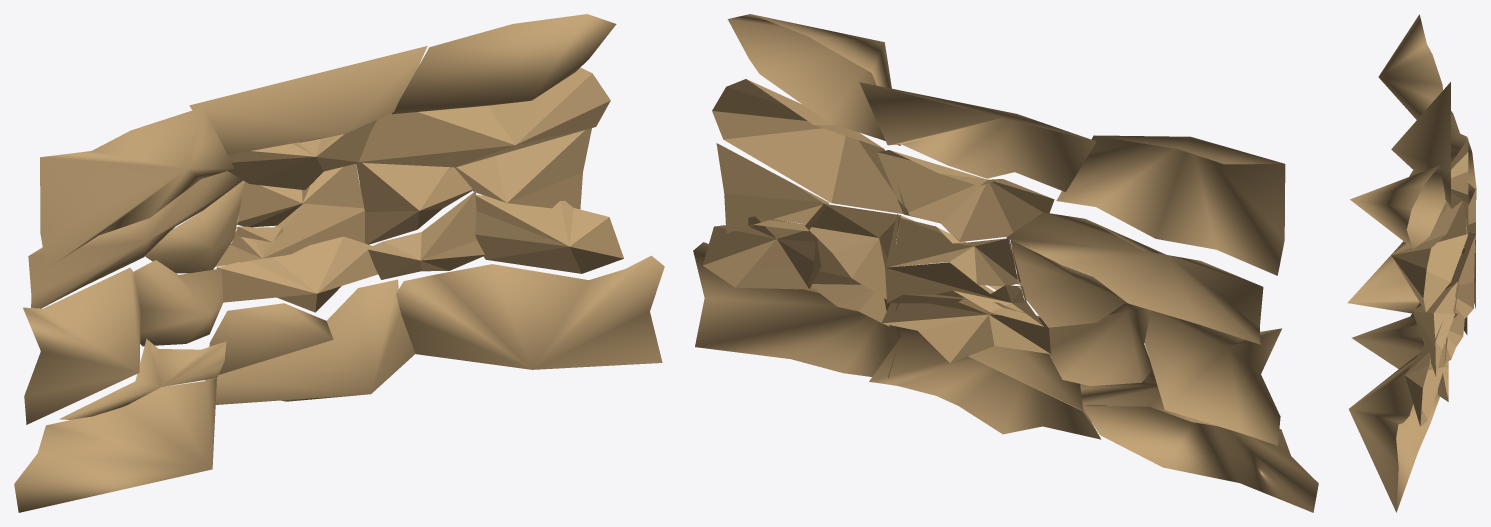
File: wall.fbx
3 views of the same model, side by side, from view 1: azimuth 30°, elevation 25°; view 2: azimuth 150°, elevation 25°; view 3: azimuth 270°, elevation 25° (orthographic). The views are drawn at different scales.
Visible parts, largest first — view 1: Wall_01, Wall_08, Wall_10, Wall_12, Wall_05, Wall_06, Wall_09, Wall_14, Wall_02, Wall_13, Wall_11, Wall_03 (+1 smaller); view 2: Wall_01, Wall_12, Wall_02, Wall_08, Wall_06, Wall_14, Wall_05, Wall_10, Wall_09, Wall_13, Wall_03, Wall_11 (+1 smaller); view 3: Wall_01, Wall_08, Wall_05, Wall_12, Wall_06, Wall_09, Wall_10, Wall_02.
Part boxes in pixels (<box>): Wall_01: <box>215,67,623,312</box>; Wall_08: <box>396,255,664,369</box>; Wall_10: <box>14,378,216,512</box>; Wall_12: <box>40,107,234,268</box>; Wall_05: <box>392,14,616,114</box>; Wall_06: <box>189,46,427,154</box>; Wall_09: <box>205,279,415,404</box>; Wall_14: <box>23,267,140,424</box>; Wall_02: <box>28,171,242,308</box>; Wall_13: <box>134,260,223,346</box>; Wall_11: <box>209,303,333,374</box>; Wall_03: <box>145,180,243,273</box>; Wall_01: <box>702,79,1054,362</box>; Wall_12: <box>1056,135,1285,275</box>; Wall_02: <box>1006,212,1263,344</box>; Wall_08: <box>693,242,900,378</box>; Wall_06: <box>859,82,1096,192</box>; Wall_14: <box>1144,310,1281,445</box>; Wall_05: <box>727,14,900,145</box>; Wall_10: <box>1082,405,1318,512</box>; Wall_09: <box>869,326,1101,439</box>; Wall_13: <box>1048,302,1152,386</box>; Wall_03: <box>1010,240,1126,327</box>; Wall_11: <box>968,346,1083,411</box>; Wall_01: <box>1391,139,1476,426</box>; Wall_08: <box>1349,353,1439,512</box>; Wall_05: <box>1350,165,1446,248</box>; Wall_12: <box>1378,14,1442,119</box>; Wall_06: <box>1391,82,1450,204</box>; Wall_09: <box>1352,316,1448,401</box>; Wall_10: <box>1347,241,1419,313</box>; Wall_02: <box>1451,111,1476,189</box>.
Size of the model in its own units: 5647 by 1270 by 3052.
